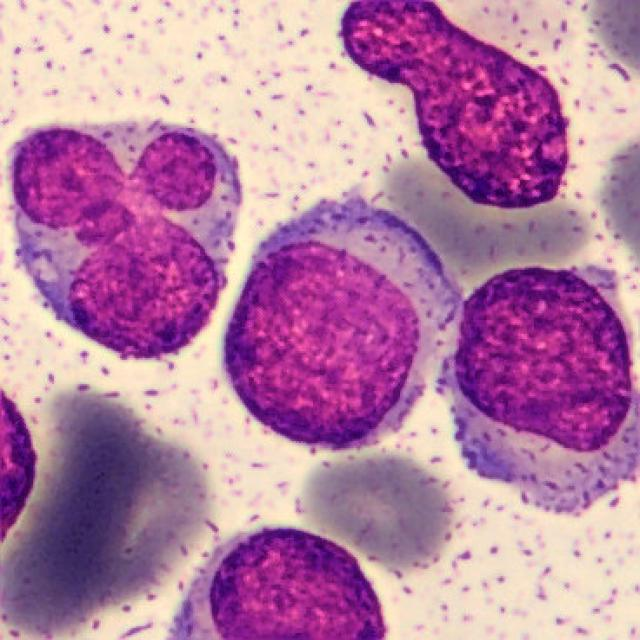Mieloblasto: (223, 199, 461, 450), (9, 126, 240, 362), (447, 268, 640, 514)
Restos celulares: (341, 0, 570, 211)
